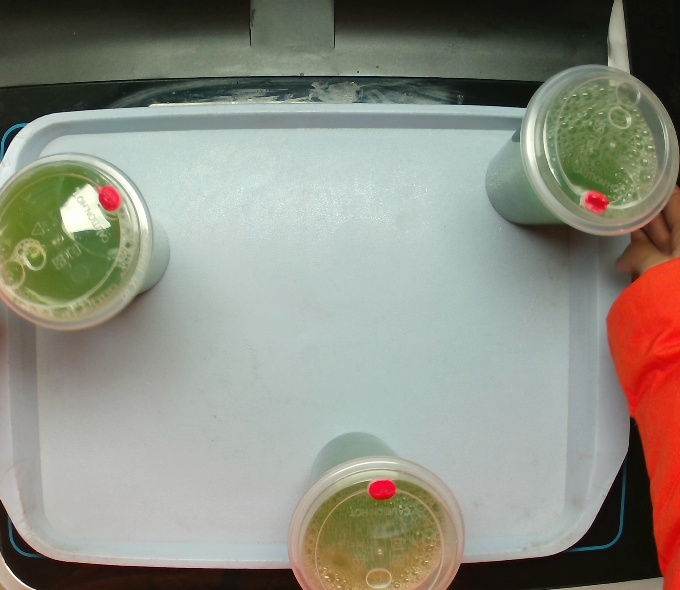wcq-HuangGuaZhi: (483, 61, 680, 239), (1, 149, 171, 334), (284, 429, 466, 590)
